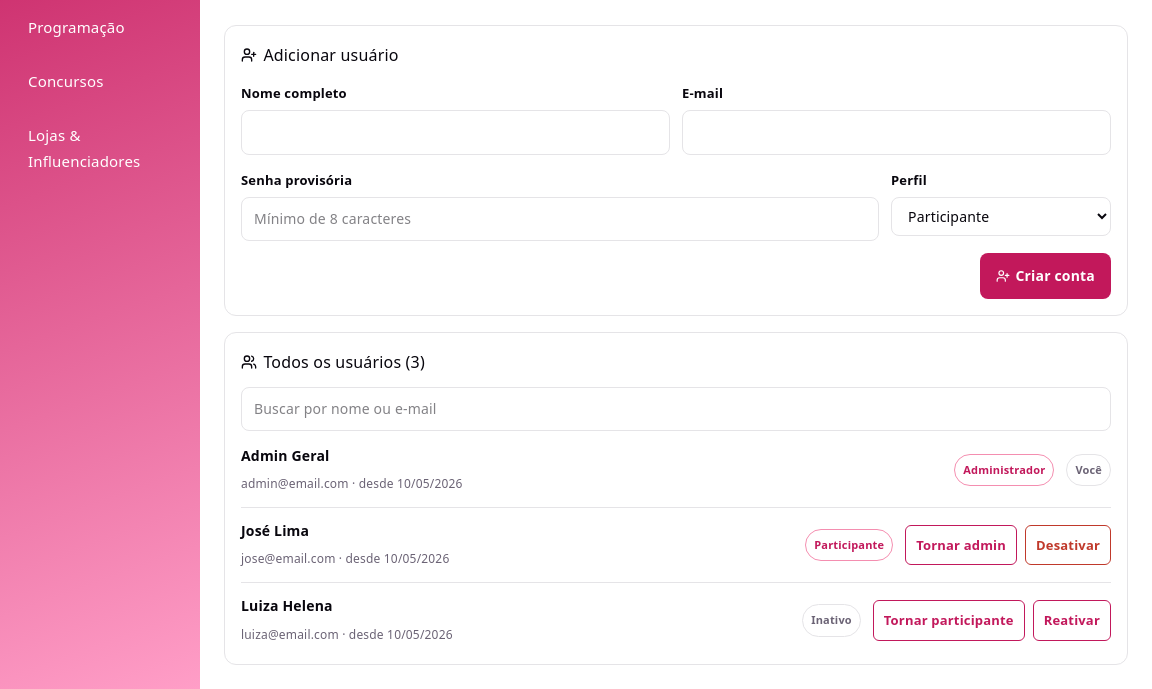
Test case: AdminUsers › desativa um usuário e atualiza a linha
(page scrolled)
What coordinates should you click on to do the following:
click the button "Desativar"
I would click on:
 (1068, 545)
Its box is [1025,525,1111,565].
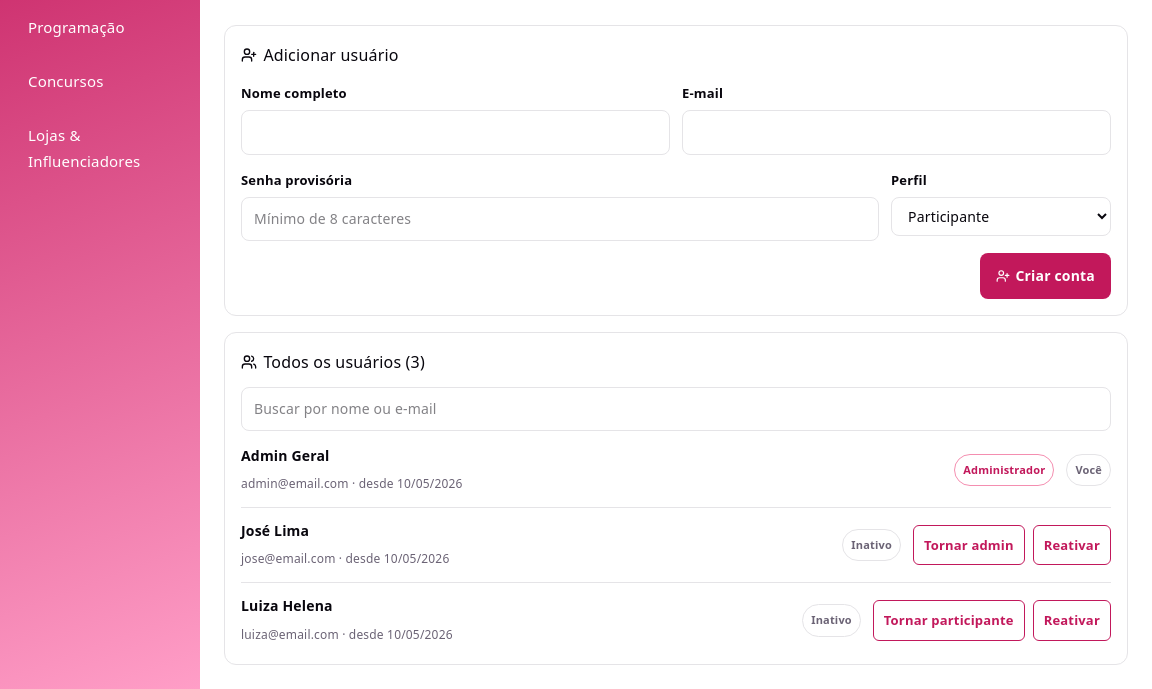
Now the text "Inativo" in the row of "José Lima" is shown, box [851,537,892,552]
Now the button "Reativar" in the row of "José Lima" is shown, box [1033,525,1111,565]
